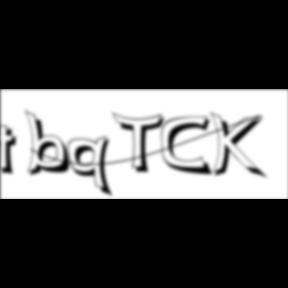C: (162, 115, 216, 178)
K: (210, 110, 270, 182)
T: (113, 112, 171, 176)
b: (24, 109, 78, 179)
q: (67, 135, 116, 200)
t: (0, 124, 24, 179)
